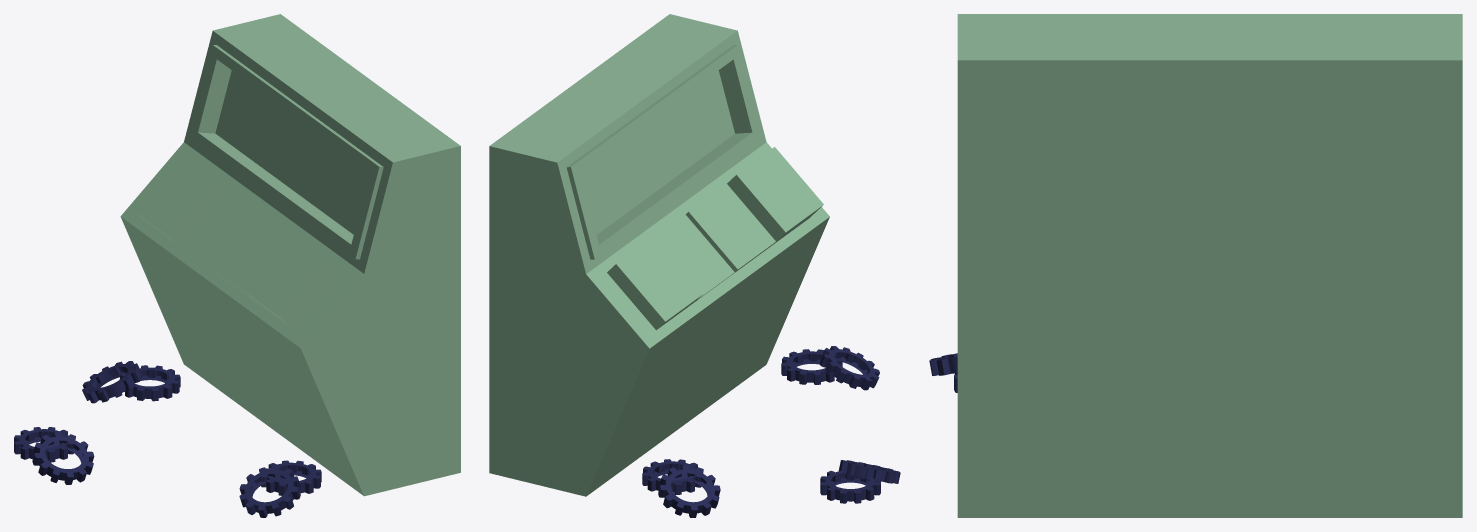
The model's file is CasillaNave2.fbx.
The picture shows the model from 3 angles, left to right: view 1: azimuth 30°, elevation 25°; view 2: azimuth 150°, elevation 25°; view 3: azimuth 270°, elevation 25°; orthographic projection. The views are drawn at different scales.
Parts seen in each view (by area): view 1: Cubo, Gear.001, Gear.003, Gear.005, Gear.004, Gear.002, Gear; view 2: Cubo, Gear.005, Gear.003, Gear, Gear.002, Gear.004, Gear.001; view 3: Cubo.
Part boxes in pixels (bbox=[...]): Cubo: bbox=[120, 14, 460, 496]; Gear.001: bbox=[32, 432, 94, 484]; Gear.003: bbox=[239, 465, 300, 517]; Gear.005: bbox=[82, 361, 142, 403]; Gear.004: bbox=[119, 365, 180, 401]; Gear.002: bbox=[261, 460, 321, 495]; Gear: bbox=[14, 427, 73, 462]; Cubo: bbox=[489, 14, 829, 496]; Gear.005: bbox=[658, 465, 720, 517]; Gear.003: bbox=[819, 346, 879, 390]; Gear: bbox=[820, 470, 880, 503]; Gear.002: bbox=[781, 349, 842, 384]; Gear.004: bbox=[642, 459, 703, 494]; Gear.001: bbox=[838, 460, 900, 483]; Cubo: bbox=[957, 14, 1462, 517].
Bounding box in the file's own units: 12.5 × 12.06 × 12.7.
